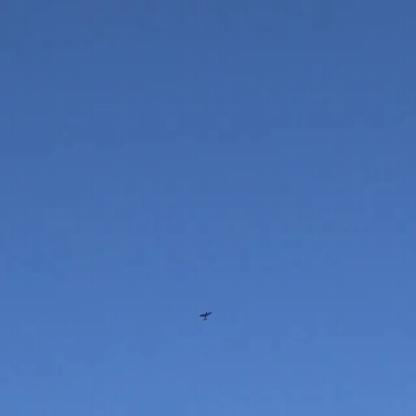CIV_Plane: (198, 311, 212, 320)
